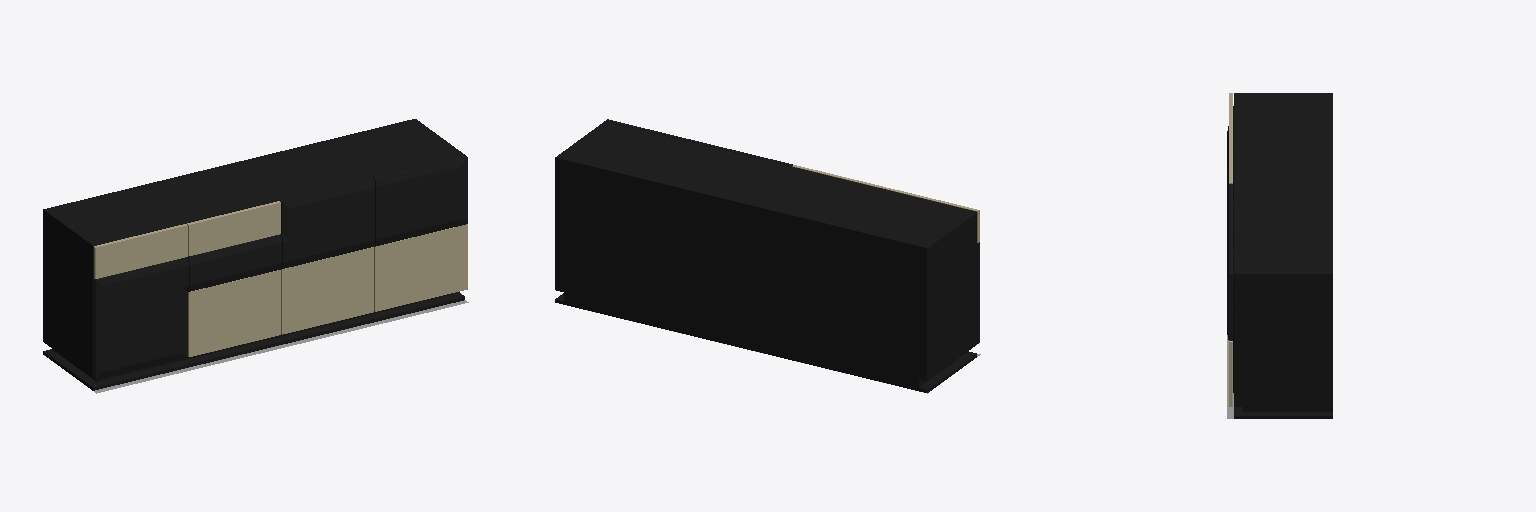
The model's file is Buffet_Moderne.obj.
3 renders of one model, left to right at view 1: azimuth 30°, elevation 25°; view 2: azimuth 150°, elevation 25°; view 3: azimuth 270°, elevation 25°, orthographic.
Visible parts, largest first — view 1: default_1_2, default_1_3, default_1_4, ground_1; view 2: default_1_2, default_1_3, default_1_4; view 3: default_1_2, default_1_3, default_1_4.
Boxes of the visible parts, x1,y1,x2,y2 form: default_1_2: [43, 119, 464, 390]; default_1_3: [94, 155, 467, 379]; default_1_4: [94, 201, 467, 356]; ground_1: [44, 300, 468, 393]; default_1_2: [555, 121, 976, 392]; default_1_3: [606, 119, 979, 343]; default_1_4: [792, 165, 979, 242]; default_1_2: [1233, 93, 1332, 418]; default_1_3: [1227, 126, 1232, 340]; default_1_4: [1229, 93, 1232, 406].
Bounding box in the file's own units: 220 × 82 × 54.5.